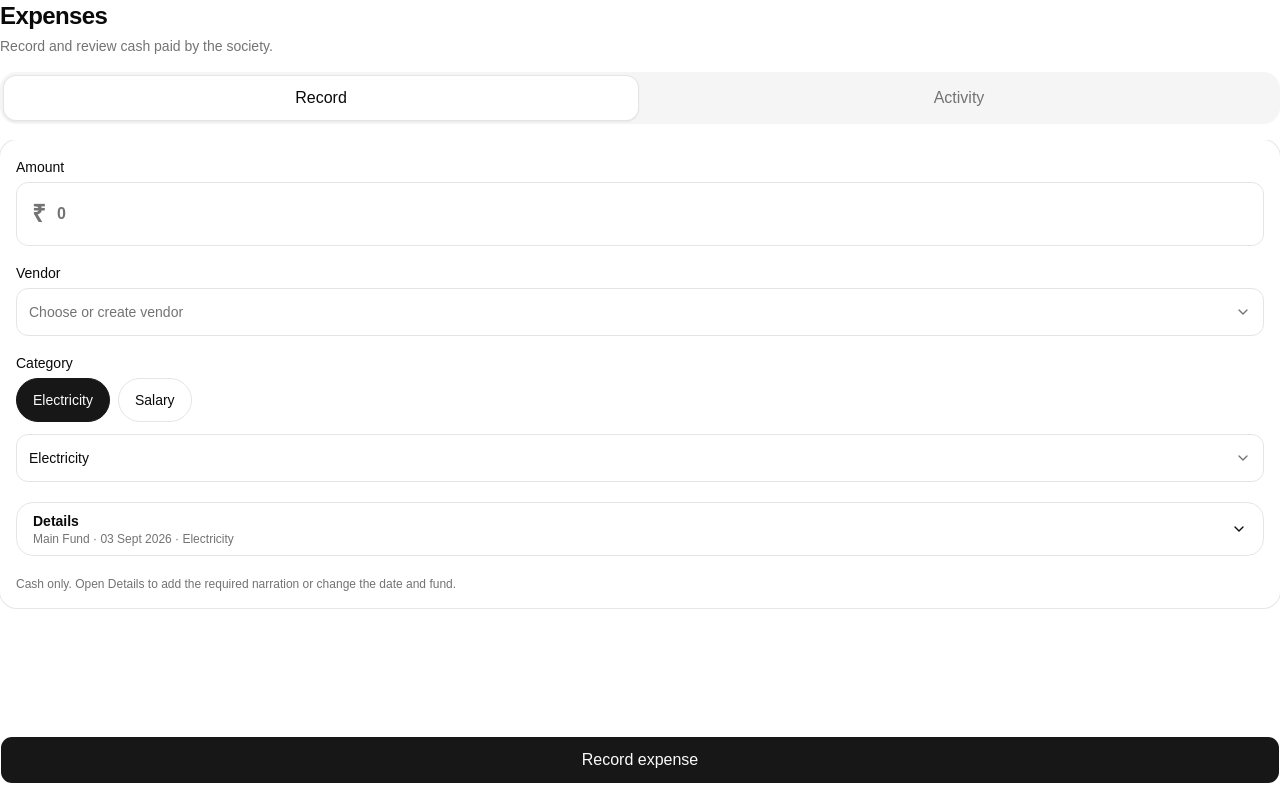
Scenario: ExpensesPage Slice 3 › shows human-readable, actionable expense rows without leaking internal IDs
Click the tab "activity" at (959, 98), box [642,76,1276,120]
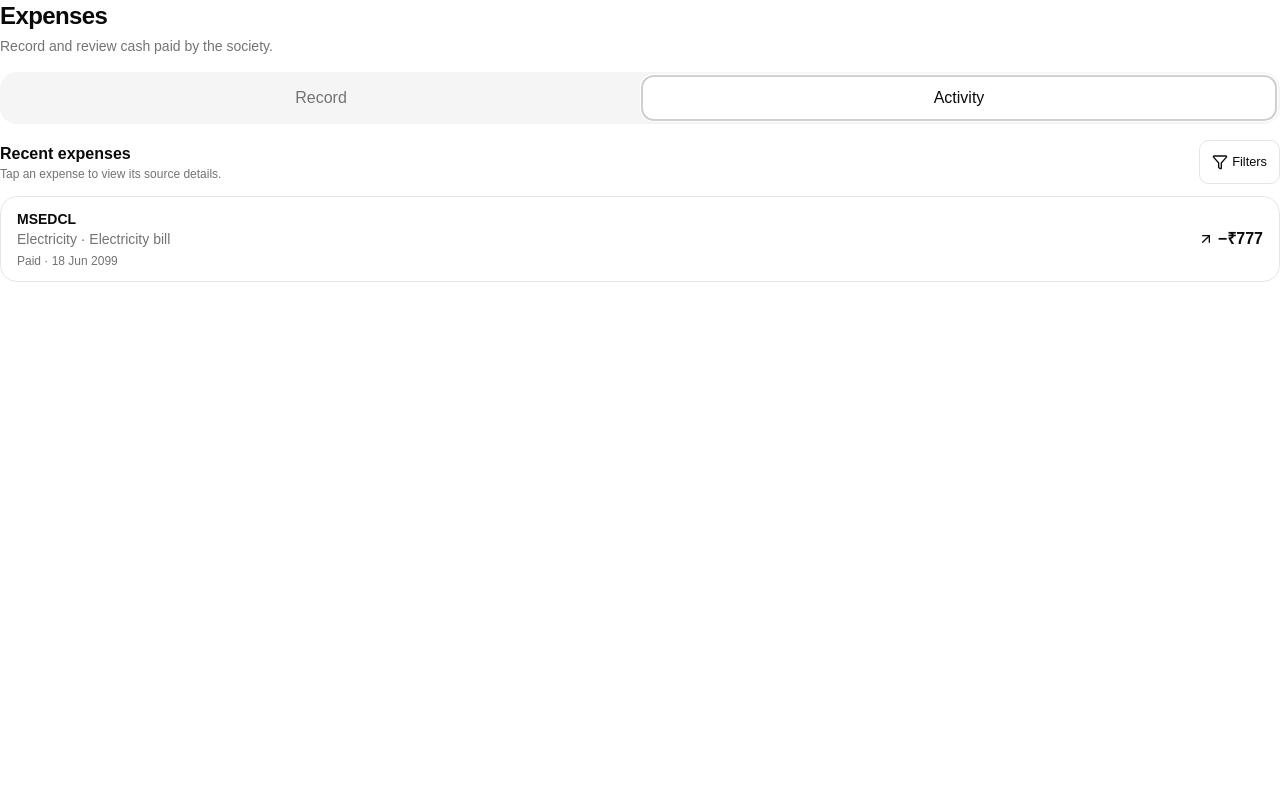
Expected: the button with aria-label "MSEDCL paid ₹777 on 18 Jun 2099" shows "Paid"
Expected: the button with aria-label "MSEDCL paid ₹777 on 18 Jun 2099" shows "−₹777"
Click the button with aria-label "MSEDCL paid ₹777 on 18 Jun 2099" at (47, 219), box [0,196,1279,282]
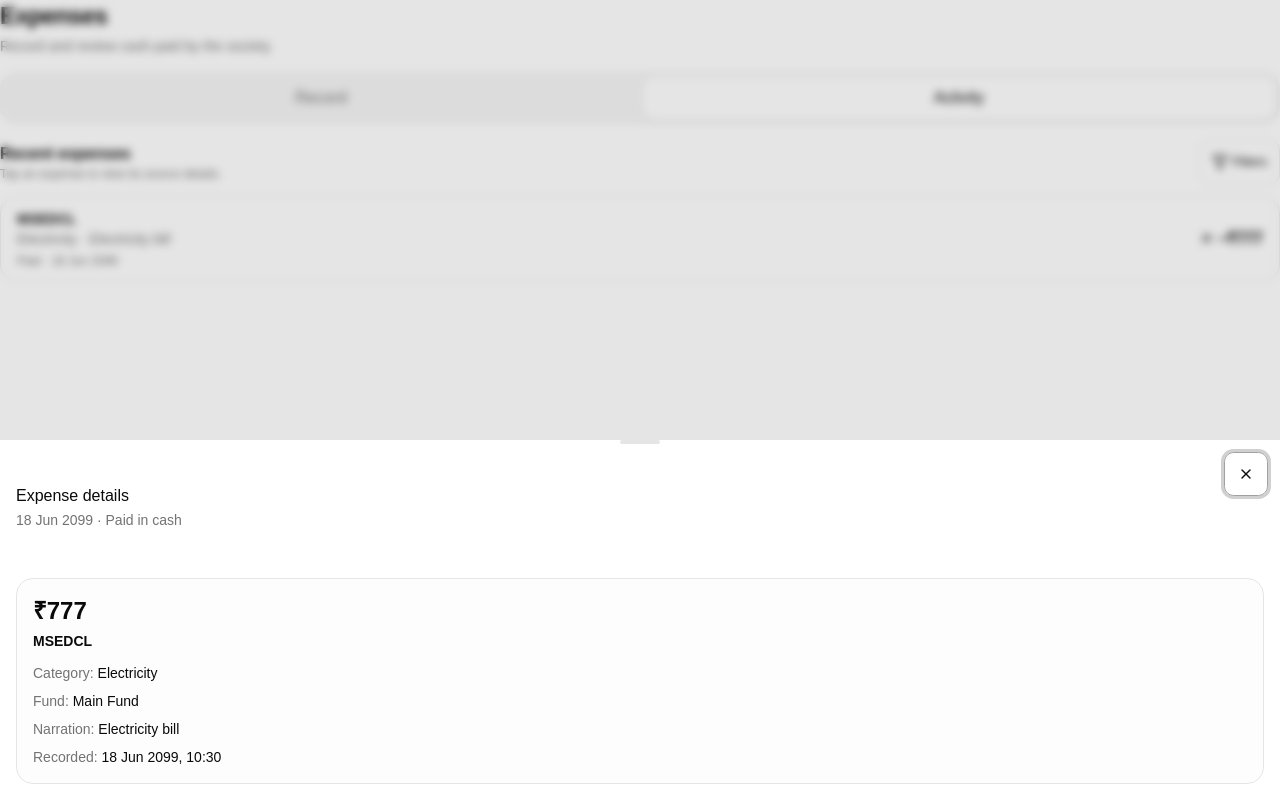
Expected: the text "Main Fund" is shown, [73,693,139,709]
Expected: the text "Recorded:" is shown, [33,749,102,765]
Expected: the text "18 Jun 2099 · Paid in cash" is shown, [16,512,182,528]
